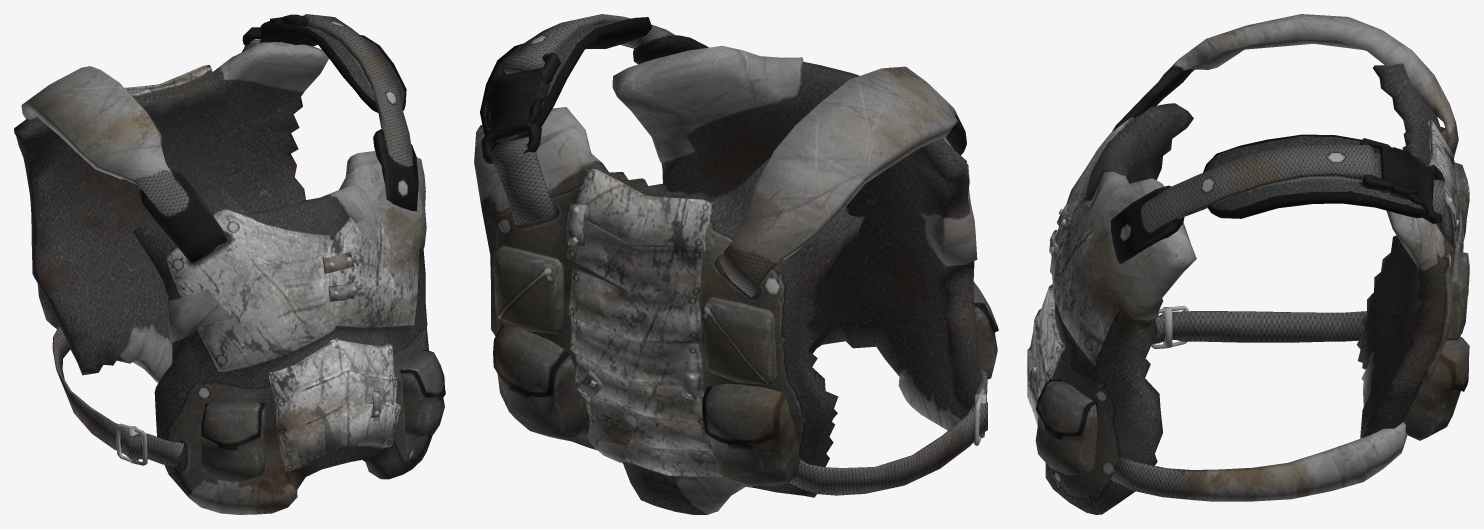
The model's file is SurvivorMale_Armor_Homemade_LOD0.glb.
3 renders of one model, left to right at view 1: azimuth 30°, elevation 25°; view 2: azimuth 150°, elevation 25°; view 3: azimuth 270°, elevation 25°, orthographic. The views are drawn at different scales.
Visible parts, largest first — view 1: Hoodie; view 2: Hoodie; view 3: Hoodie.
Part boxes in pixels (x1,y1,x2,y2): Hoodie: (14,14,445,514); Hoodie: (474,14,998,514); Hoodie: (1027,14,1469,514).
Bounding box in the file's own units: 0.3922 × 0.4089 × 0.4211.
1 material, 1 textured.
